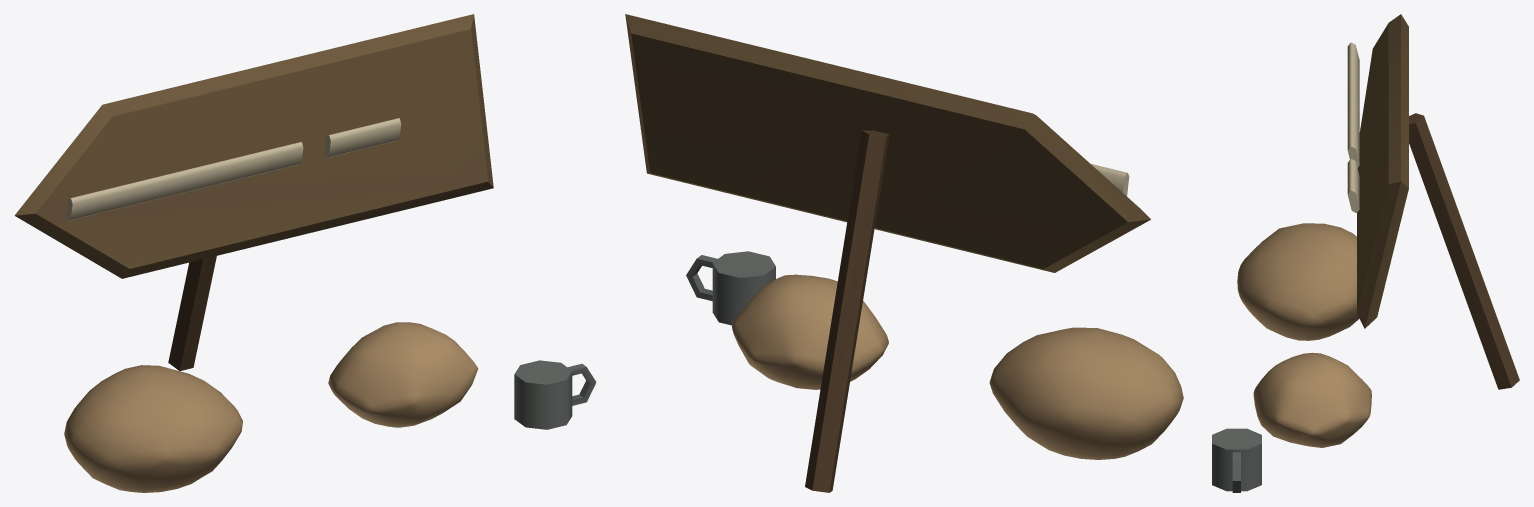
Rendered from crew_sign_b.glb.
3 views of the same model, side by side, from view 1: azimuth 30°, elevation 25°; view 2: azimuth 150°, elevation 25°; view 3: azimuth 270°, elevation 25° (orthographic). The views are drawn at different scales.
Visible parts, largest first — view 1: Surface; view 2: Surface; view 3: Surface.
Boxes of the visible parts, x1,y1,x2,y2 form: Surface: [14, 14, 596, 492]; Surface: [625, 14, 1183, 492]; Surface: [1212, 14, 1519, 492].
Bounding box in the file's own units: 1.28 × 0.8382 × 0.7382.
